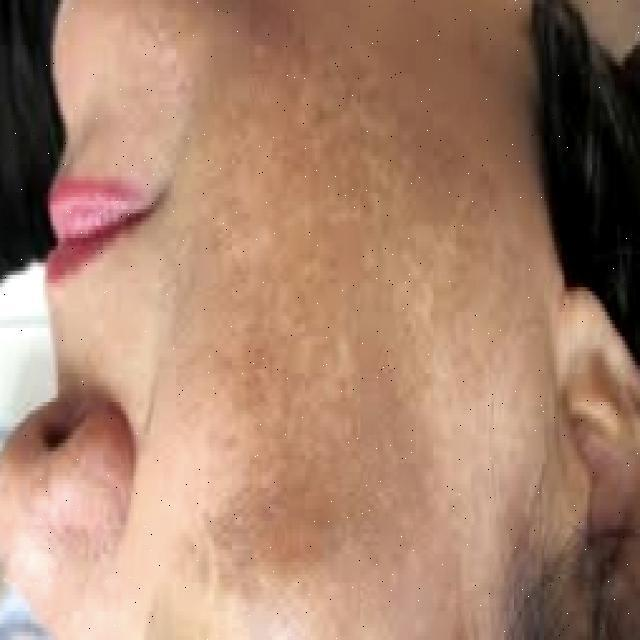Melasma: (152, 0, 556, 610)
